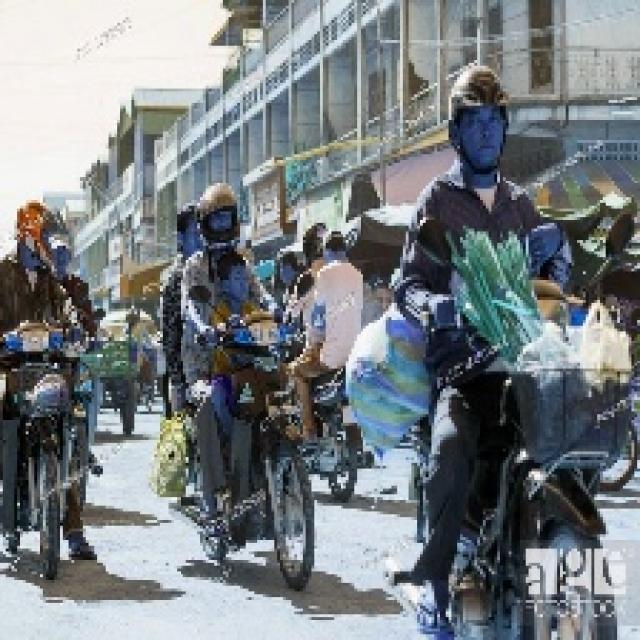bike: (180, 304, 326, 604), (4, 322, 97, 589)
